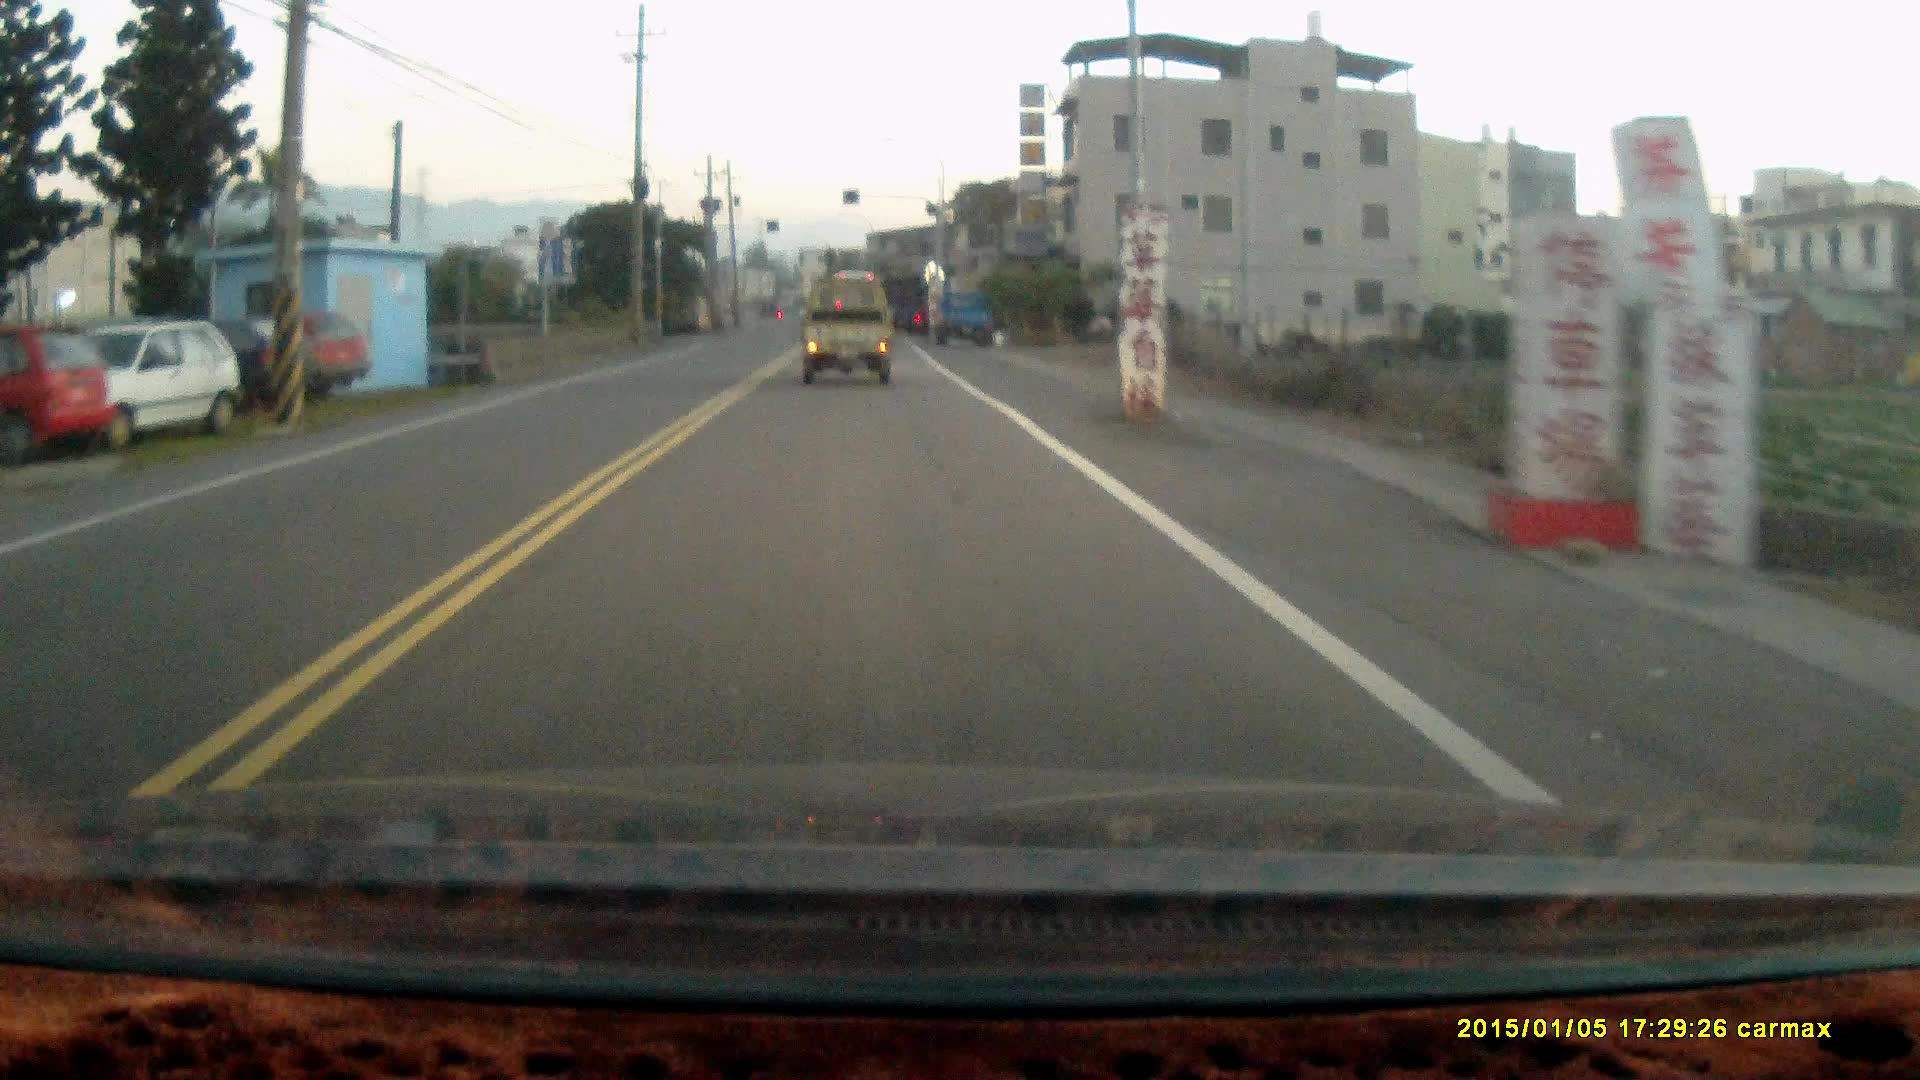vehicle: (20, 319, 229, 440), (1, 318, 138, 448), (193, 299, 378, 392), (800, 272, 899, 390), (934, 287, 1002, 345)
